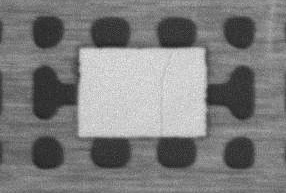DIE_CRACK: (158, 52, 173, 131)
